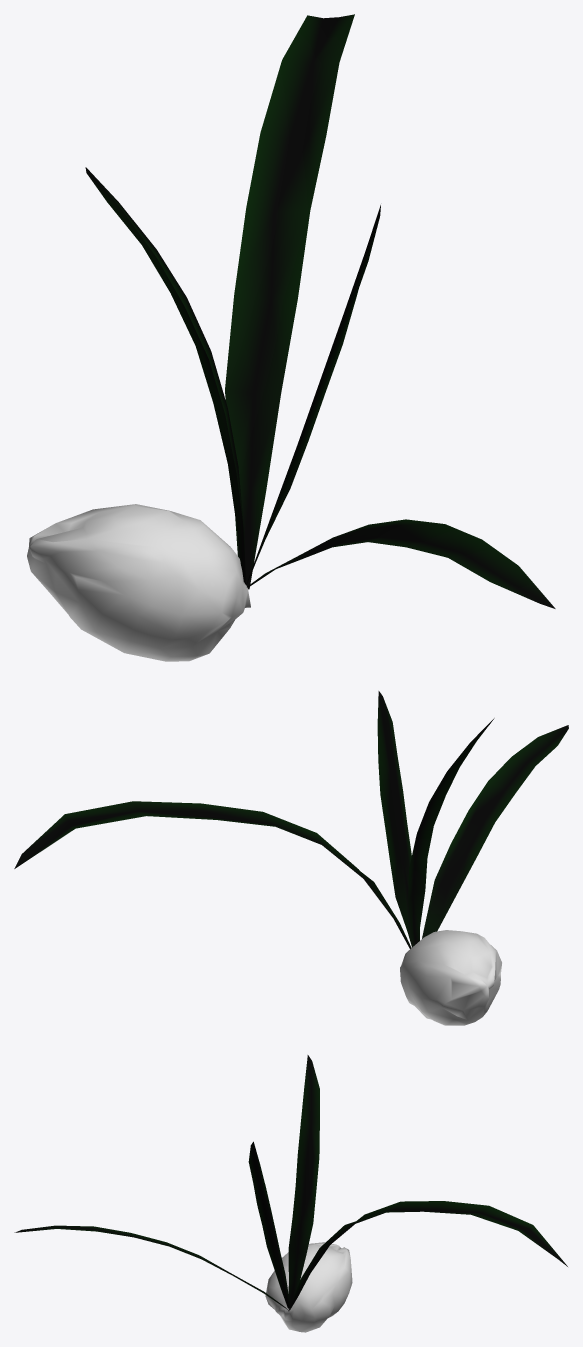
The model's file is YoungCoconutPalm01_afsTREE_xlprl15_xmw05_xlb05_xlod01.fbx.
3 renders of one model, top to bottom at view 1: azimuth 30°, elevation 25°; view 2: azimuth 150°, elevation 25°; view 3: azimuth 270°, elevation 25°, orthographic. The views are drawn at different scales.
Visible parts, largest first — view 1: LargeTropicalLeaf_xw03_xt02_xlp02_xp05, trunk_youngCoconutPalm01_xw00_xt00_xlp00, LargeTropicalLeaf_xw02_xt01_xlp00_xp08, LargeTropicalLeaf_xw04_xt02_xlp03_xp10, LargeTropicalLea_xw04_xt02_xlp02_xp02; view 2: trunk_youngCoconutPalm01_xw00_xt00_xlp00, LargeTropicalLeaf_xw02_xt01_xlp00_xp08, LargeTropicalLeaf_xw03_xt02_xlp02_xp05, LargeTropicalLea_xw04_xt02_xlp02_xp02, LargeTropicalLeaf_xw04_xt02_xlp03_xp10; view 3: trunk_youngCoconutPalm01_xw00_xt00_xlp00, LargeTropicalLeaf_xw04_xt02_xlp03_xp10, LargeTropicalLeaf_xw03_xt02_xlp02_xp05, LargeTropicalLea_xw04_xt02_xlp02_xp02, LargeTropicalLeaf_xw02_xt01_xlp00_xp08.
Boxes of the visible parts, x1,y1,x2,y2 form: LargeTropicalLeaf_xw03_xt02_xlp02_xp05: (225,14,354,589); trunk_youngCoconutPalm01_xw00_xt00_xlp00: (27,504,250,661); LargeTropicalLeaf_xw02_xt01_xlp00_xp08: (247,519,555,608); LargeTropicalLeaf_xw04_xt02_xlp03_xp10: (85,167,245,584); LargeTropicalLea_xw04_xt02_xlp02_xp02: (246,205,380,585); trunk_youngCoconutPalm01_xw00_xt00_xlp00: (400,930,501,1025); LargeTropicalLeaf_xw02_xt01_xlp00_xp08: (422,725,568,938); LargeTropicalLeaf_xw03_xt02_xlp02_xp05: (14,801,411,948); LargeTropicalLea_xw04_xt02_xlp02_xp02: (377,691,413,947); LargeTropicalLeaf_xw04_xt02_xlp03_xp10: (408,718,494,945); trunk_youngCoconutPalm01_xw00_xt00_xlp00: (265,1242,352,1332); LargeTropicalLeaf_xw04_xt02_xlp03_xp10: (288,1055,319,1305); LargeTropicalLeaf_xw03_xt02_xlp02_xp05: (288,1201,567,1311); LargeTropicalLea_xw04_xt02_xlp02_xp02: (248,1141,290,1309); LargeTropicalLeaf_xw02_xt01_xlp00_xp08: (14,1225,288,1310).
Size of what is drawn, in the model's own units: 1.43 by 2.56 by 1.29.
